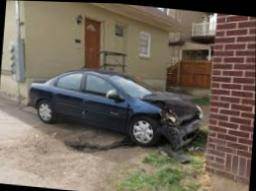Bonnet: (139, 89, 202, 114)
Bumper: (157, 114, 202, 147)
Fender: (127, 95, 176, 124)
Light: (158, 110, 181, 125)
